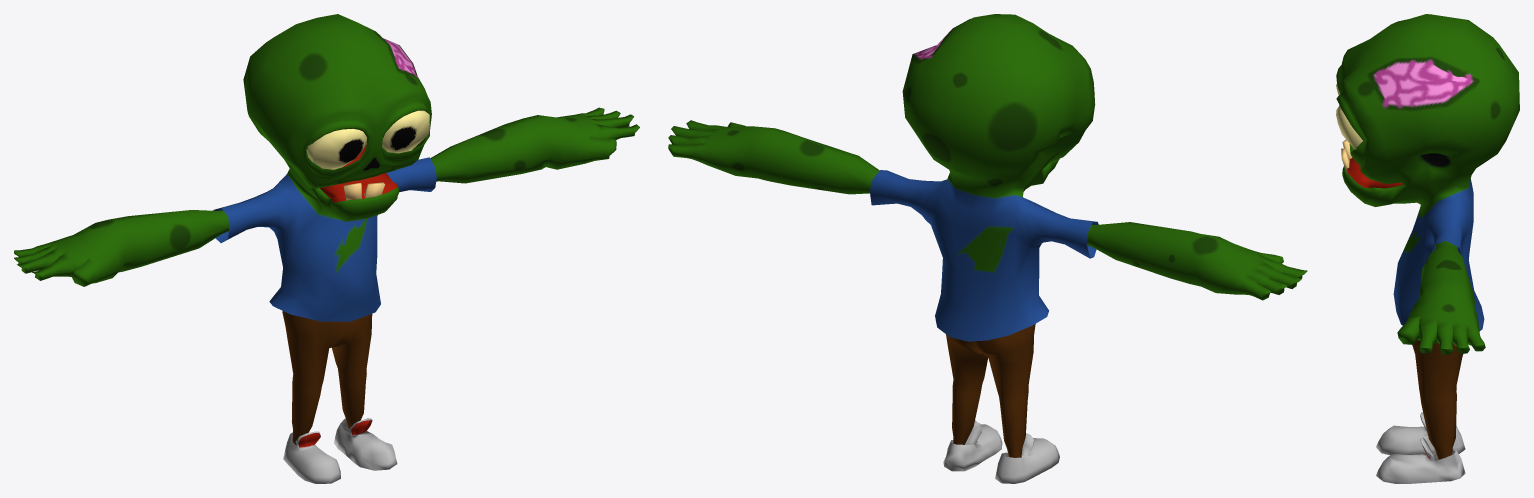
Rendered from Zombie.fbx.
3 renders of one model, left to right at view 1: azimuth 30°, elevation 25°; view 2: azimuth 150°, elevation 25°; view 3: azimuth 270°, elevation 25°, orthographic. The views are drawn at different scales.
Parts seen in each view (by area): view 1: Zombie; view 2: Zombie; view 3: Zombie.
Part boxes in pixels (<box>): Zombie: <box>14,14,639,483</box>; Zombie: <box>668,14,1307,483</box>; Zombie: <box>1336,14,1519,483</box>.
Size of the model in its own units: 220 by 148 by 56.33.
Materials: 1 (1 with a texture image).
